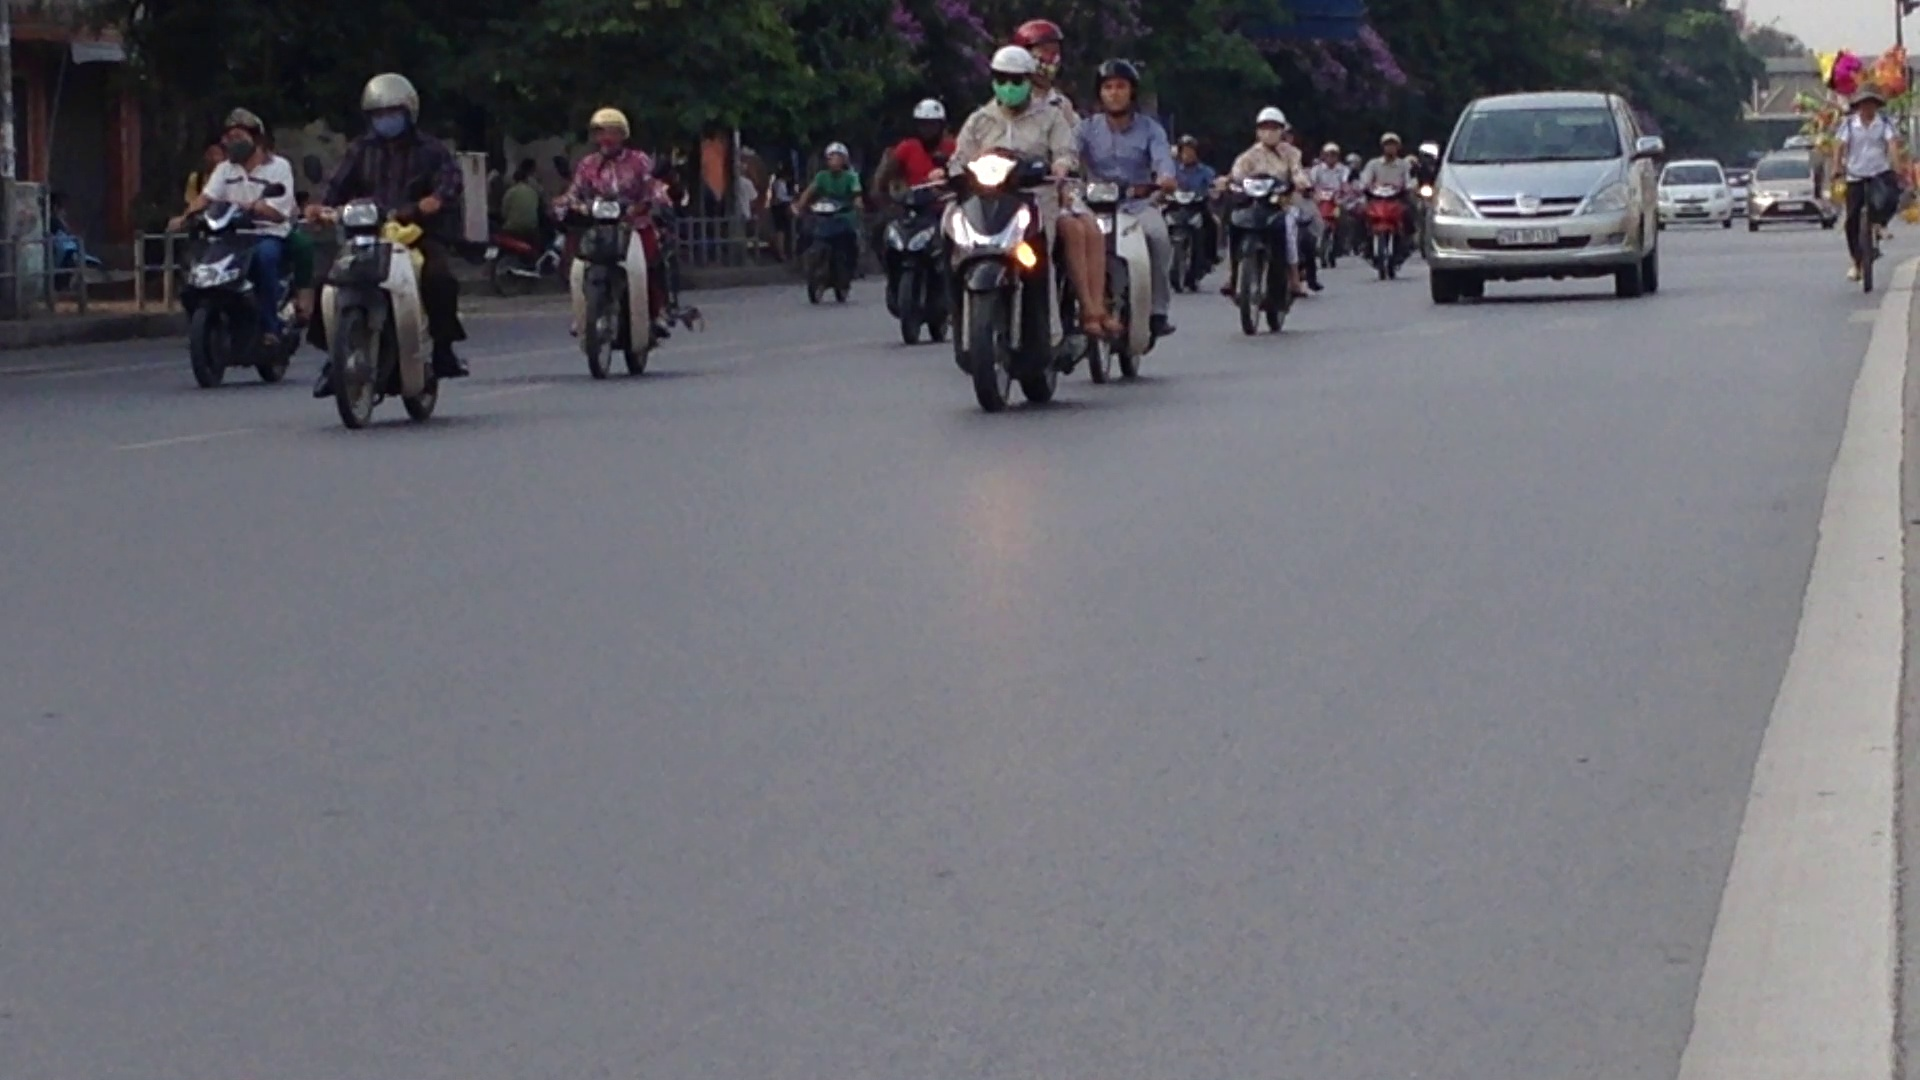person: (1494, 224, 1563, 246)
